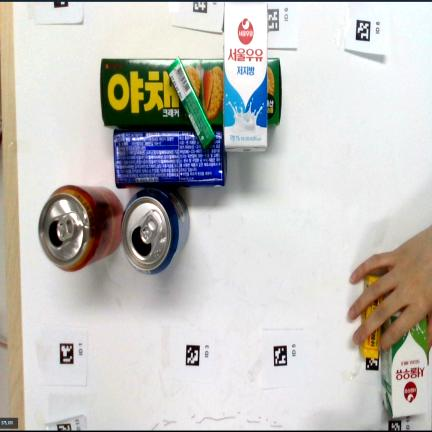can_coke_decaf: (38, 185, 123, 271)
can_pepsi: (122, 188, 189, 273)
cracker_ace: (113, 129, 226, 187)
cracker_vege: (100, 58, 192, 128), (182, 58, 223, 127)
gum_green: (168, 58, 215, 149)
milk_blue: (223, 2, 267, 151)
